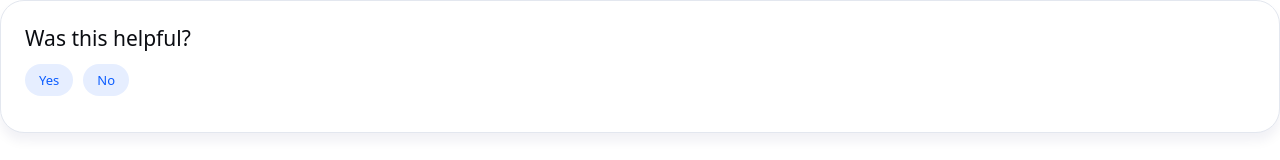
Test: share and feedback › answers Yes and No
Later steps or results of the test are not shown.
Click the button "Yes" at (49, 80), box 25,64 -> 73,96
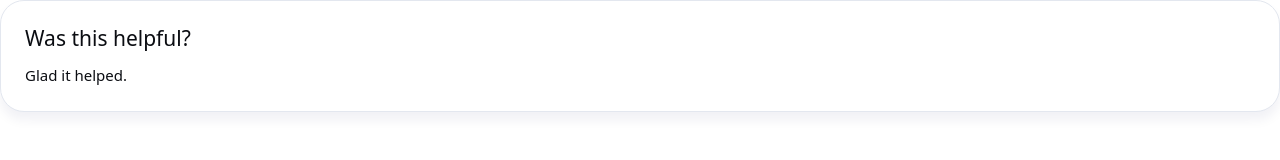
Result: the message reads "Glad it helped." at 25,65 -> 127,85
Result: the button "No" is gone
